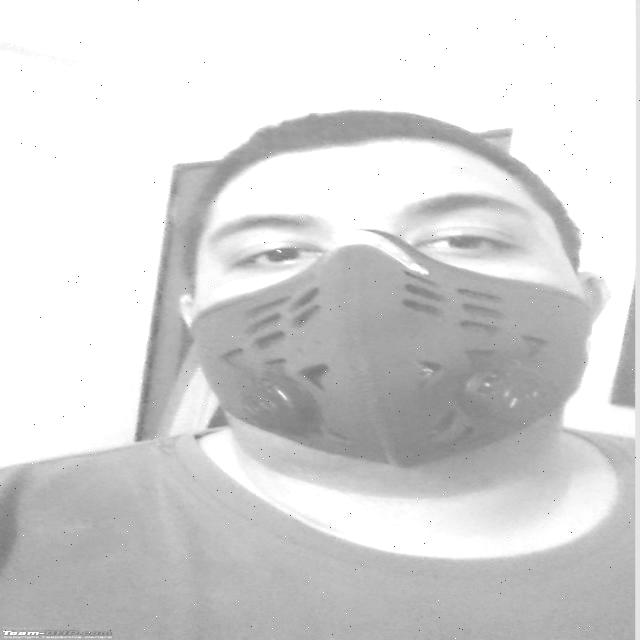fake: (189, 229, 595, 473)
real: (195, 137, 597, 473)
